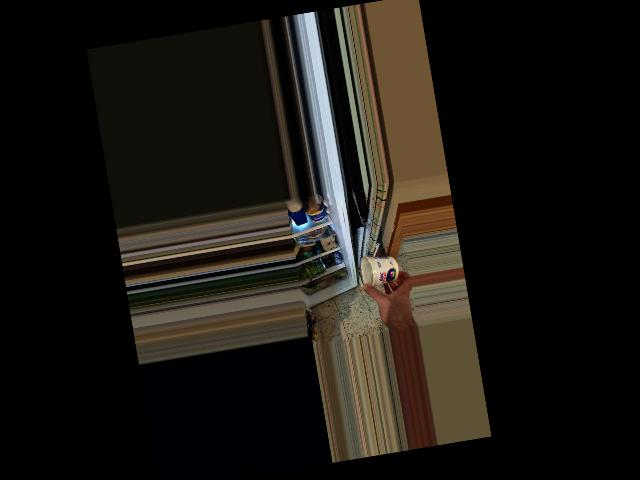cotage: (361, 254, 398, 290)
